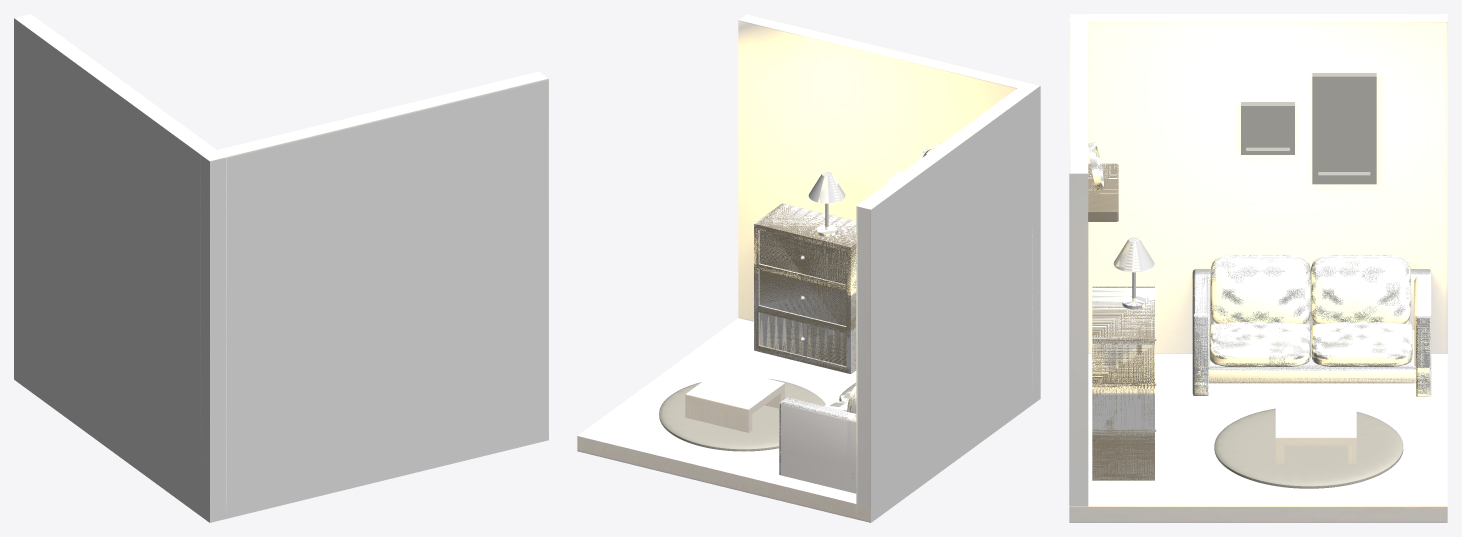
File: room_basic_2.gltf
The picture shows the model from 3 angles, left to right: view 1: azimuth 30°, elevation 25°; view 2: azimuth 150°, elevation 25°; view 3: azimuth 270°, elevation 25°; orthographic projection. The views are drawn at different scales.
Parts seen in each view (by area): view 1: Cube.3; view 2: Cube.3, Cylinder (×2), Cube.3-wood.1 (×2), Cube.4, room-desk, Cylinder.1, sofa; view 3: Cube.3 (×2), Cube.4, Cylinder (×2), Cube.1 (×2), Cube.3-wood.1 (×2), Cube (×2), sofa, room-desk, Cube.2 (×2), Cylinder.1, room-clock.2.
Part boxes in pixels (x1=…): Cube.3: x1=14, y1=14, x2=548, y2=522; Cube.3: x1=577, y1=14, x2=1040, y2=522; Cylinder (×2): x1=659, y1=203, x2=856, y2=451; Cube.3-wood.1 (×2): x1=754, y1=203, x2=856, y2=373; Cube.4: x1=779, y1=383, x2=856, y2=493; room-desk: x1=685, y1=367, x2=784, y2=432; Cylinder.1: x1=808, y1=172, x2=845, y2=236; sofa: x1=779, y1=397, x2=856, y2=477; Cube.3 (×2): x1=1069, y1=14, x2=1447, y2=522; Cube.4: x1=1192, y1=255, x2=1431, y2=396; Cylinder (×2): x1=1092, y1=287, x2=1403, y2=488; Cube.1 (×2): x1=1211, y1=73, x2=1376, y2=323; Cube.3-wood.1 (×2): x1=1092, y1=286, x2=1154, y2=480; Cube (×2): x1=1209, y1=102, x2=1310, y2=366; sofa: x1=1192, y1=269, x2=1430, y2=396; room-desk: x1=1275, y1=403, x2=1356, y2=463; Cube.2 (×2): x1=1088, y1=163, x2=1412, y2=366; Cylinder.1: x1=1113, y1=237, x2=1154, y2=309; room-clock.2: x1=1088, y1=142, x2=1118, y2=193.
Bounding box in the file's own units: 1009 × 1028 × 1009.
Materials: 11 (2 with a texture image).
